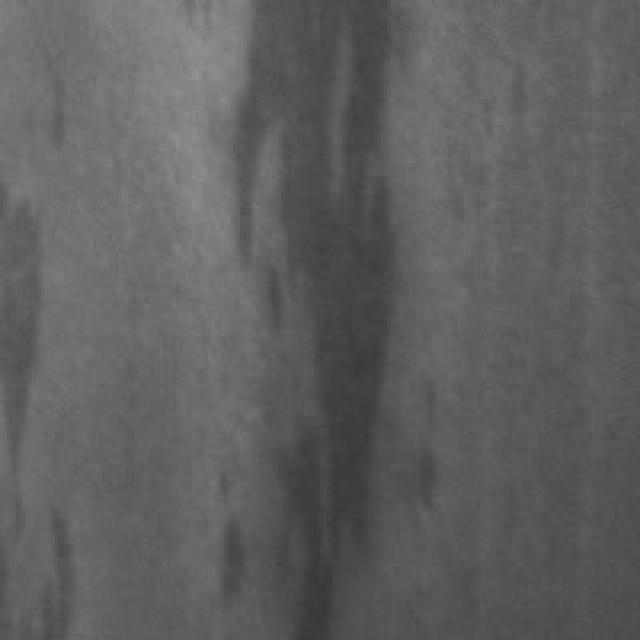inclusion: (212, 0, 422, 627), (0, 176, 64, 528), (387, 342, 451, 534), (19, 493, 86, 637), (29, 54, 77, 157)
